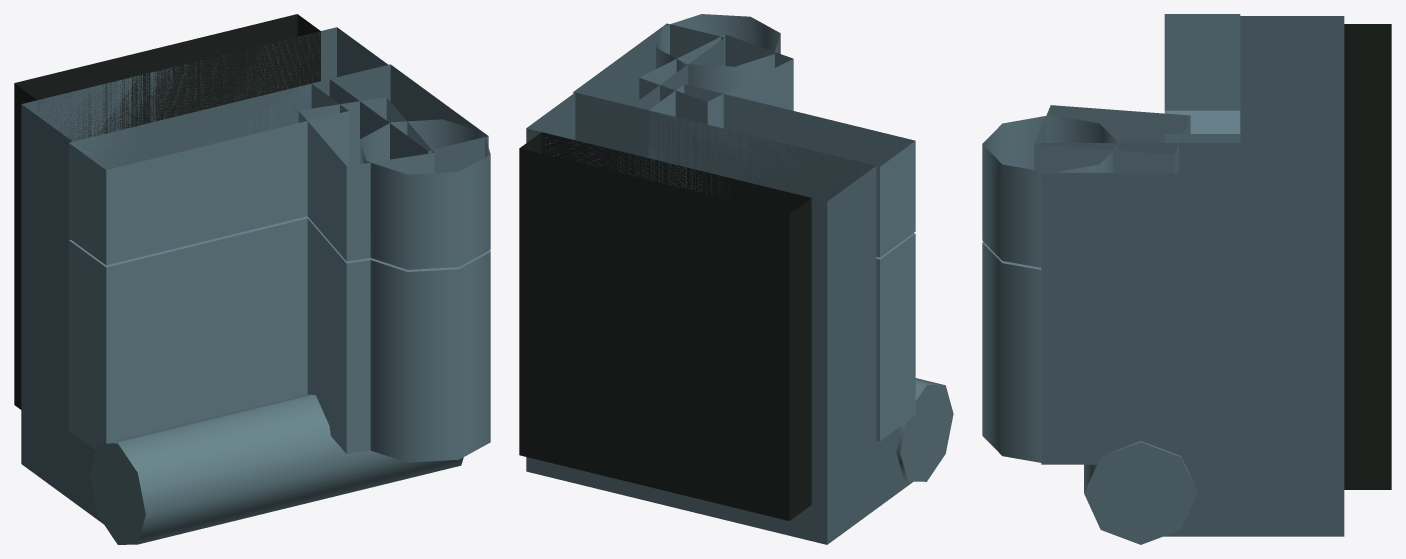
The model's file is section-7.obj.
3 views of the same model, side by side, from view 1: azimuth 30°, elevation 25°; view 2: azimuth 150°, elevation 25°; view 3: azimuth 270°, elevation 25° (orthographic). The views are drawn at different scales.
Bounding box in the file's own units: 0.8 × 0.865 × 0.865.
1 material, 1 textured.
